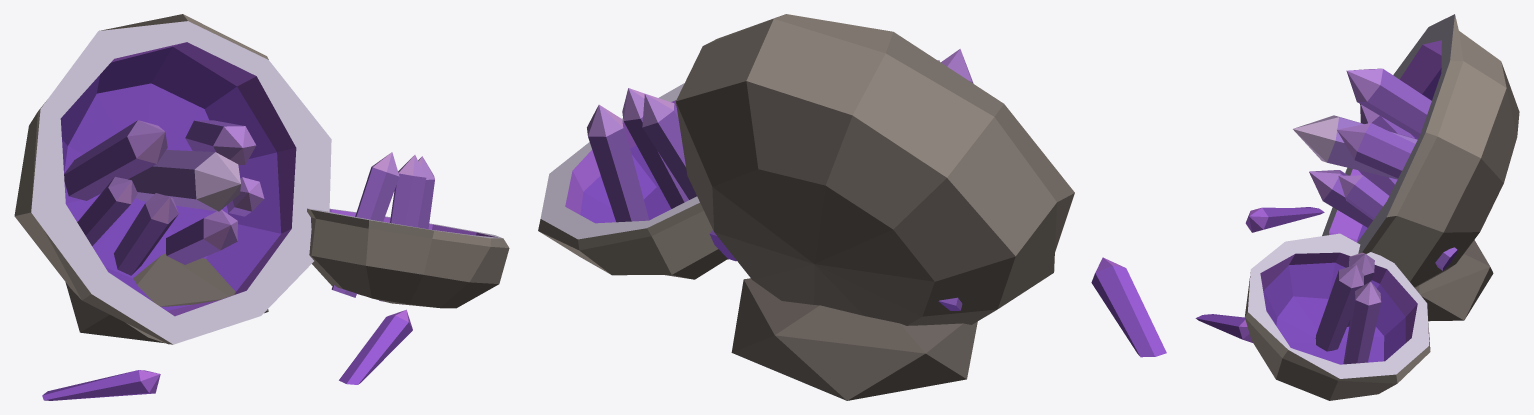
Rendered from habitat_prop_amethyst.fbx.
3 renders of one model, left to right at view 1: azimuth 30°, elevation 25°; view 2: azimuth 150°, elevation 25°; view 3: azimuth 270°, elevation 25°, orthographic. The views are drawn at different scales.
Parts seen in each view (by area): view 1: habitat_prop_amethyst; view 2: habitat_prop_amethyst; view 3: habitat_prop_amethyst.
Boxes of the visible parts, <box> form: habitat_prop_amethyst: <box>14,14,509,400</box>; habitat_prop_amethyst: <box>538,14,1166,400</box>; habitat_prop_amethyst: <box>1195,14,1519,400</box>.
Size of the model in its own units: 1.8 by 1.02 by 1.19.
